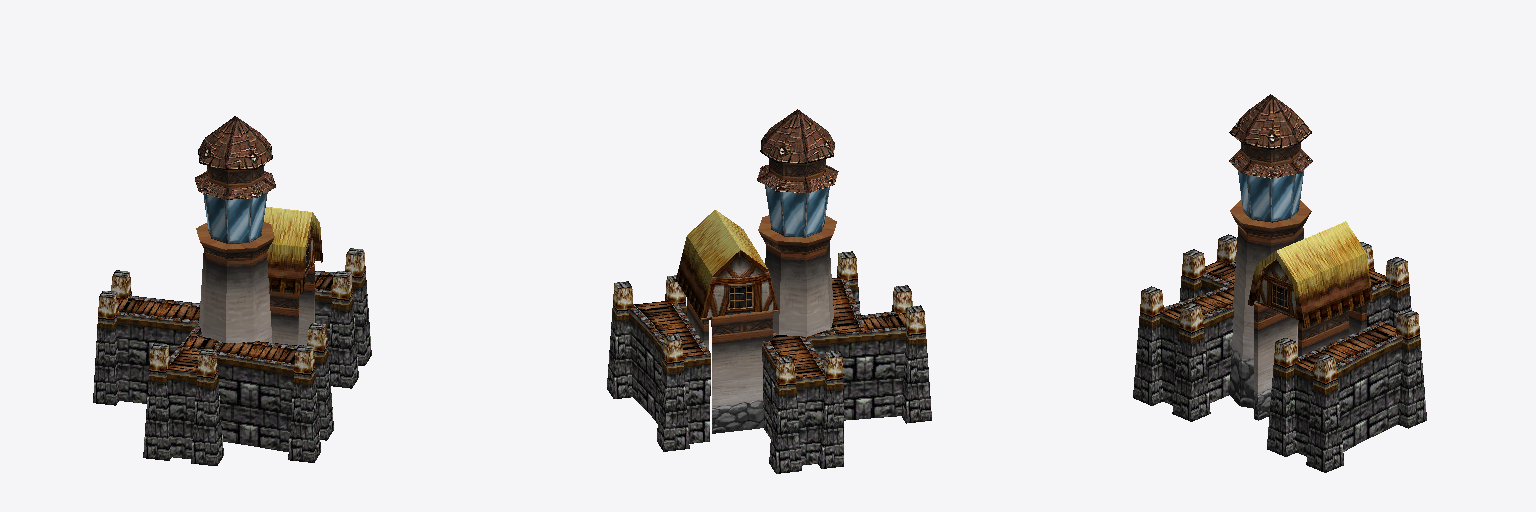
The picture shows the model from 3 angles: view 1: azimuth 30°, elevation 25°; view 2: azimuth 150°, elevation 25°; view 3: azimuth 270°, elevation 25°; orthographic projection.
Parts seen in each view (by area): view 1: Converted_object_2(m0); view 2: Converted_object_2(m0); view 3: Converted_object_2(m0).
Boxes of the visible parts, box(x1,y1,x2,y2) form: Converted_object_2(m0): box(93, 116, 371, 465); Converted_object_2(m0): box(607, 109, 931, 473); Converted_object_2(m0): box(1133, 94, 1426, 472).
Bounding box in the file's own units: 22.94 × 23.68 × 21.11.
1 materials, 1 textured.